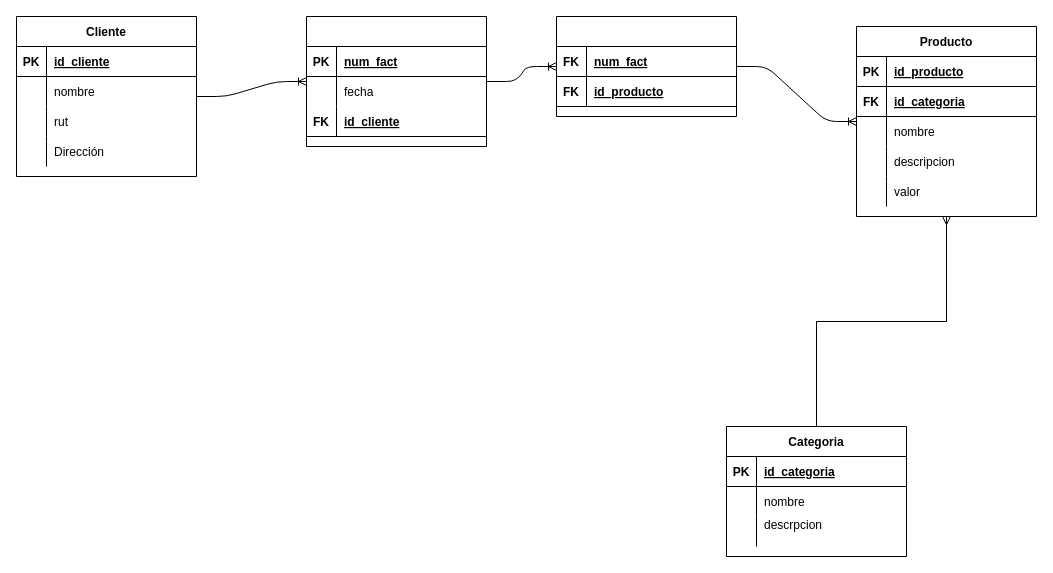
Some shapes in this 1053 by 573 pixel diagram are drawn without their labels. The box of each missing label's shape, as (x1, y1, x2, y2) in pixels:
Factura: (306, 16, 486, 146)
FacturaProducto: (556, 16, 736, 116)
